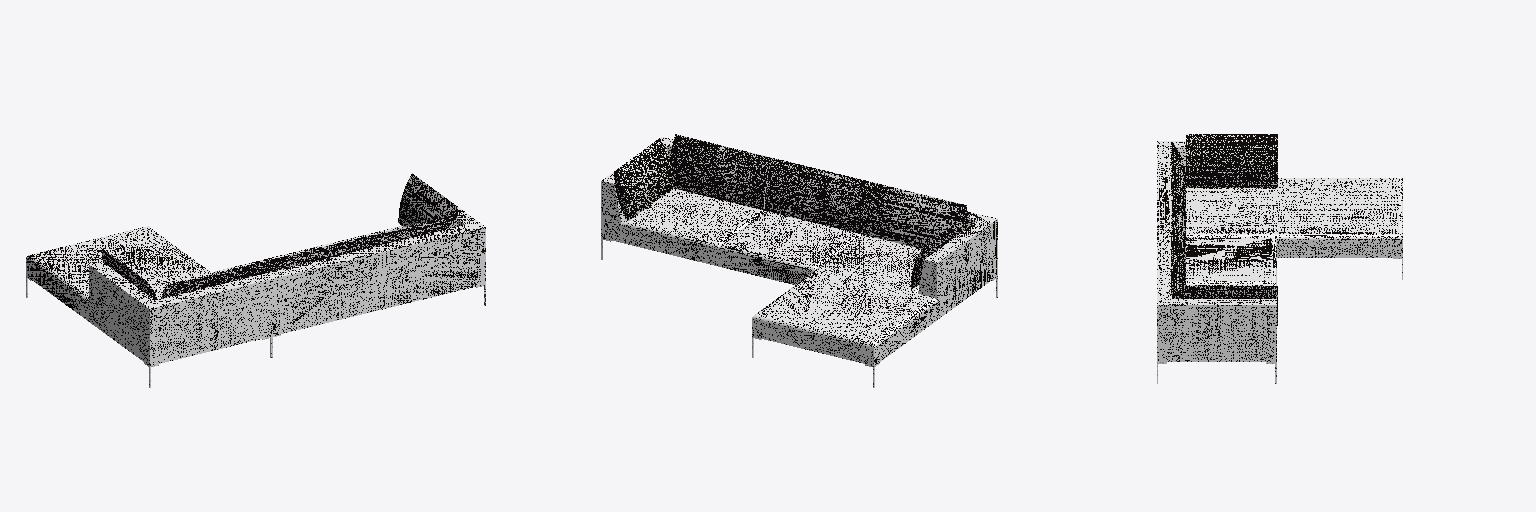
3 renders of one model, left to right at view 1: azimuth 30°, elevation 25°; view 2: azimuth 150°, elevation 25°; view 3: azimuth 270°, elevation 25°, orthographic.
Visible parts, largest first — view 1: mesh2_mesh2-geometry, mesh1_mesh1-geometry, mesh5_mesh5-geometry, mesh4_mesh4-geometry, mesh3_mesh3-geometry, mesh6_mesh6-geometry; view 2: mesh2_mesh2-geometry, mesh4_mesh4-geometry, mesh3_mesh3-geometry, mesh5_mesh5-geometry, mesh1_mesh1-geometry, mesh6_mesh6-geometry; view 3: mesh2_mesh2-geometry, mesh6_mesh6-geometry, mesh1_mesh1-geometry, mesh3_mesh3-geometry, mesh5_mesh5-geometry, mesh4_mesh4-geometry.
Part boxes in pixels (left/top/right/bottom): mesh2_mesh2-geometry: left=26, top=200, right=485, bottom=387; mesh1_mesh1-geometry: left=398, top=173, right=457, bottom=226; mesh5_mesh5-geometry: left=161, top=262, right=262, bottom=298; mesh4_mesh4-geometry: left=263, top=238, right=360, bottom=273; mesh3_mesh3-geometry: left=360, top=214, right=457, bottom=249; mesh6_mesh6-geometry: left=102, top=249, right=157, bottom=299; mesh2_mesh2-geometry: left=601, top=137, right=997, bottom=387; mesh4_mesh4-geometry: left=765, top=158, right=868, bottom=233; mesh3_mesh3-geometry: left=670, top=134, right=771, bottom=209; mesh5_mesh5-geometry: left=863, top=182, right=966, bottom=248; mesh1_mesh1-geometry: left=614, top=138, right=673, bottom=220; mesh6_mesh6-geometry: left=911, top=214, right=969, bottom=289; mesh2_mesh2-geometry: left=1157, top=141, right=1402, bottom=383; mesh6_mesh6-geometry: left=1186, top=134, right=1277, bottom=187; mesh1_mesh1-geometry: left=1186, top=286, right=1277, bottom=325; mesh3_mesh3-geometry: left=1171, top=236, right=1185, bottom=298; mesh5_mesh5-geometry: left=1171, top=141, right=1185, bottom=219; mesh4_mesh4-geometry: left=1171, top=188, right=1185, bottom=266.
Size of the model in its own units: 0.8241 by 0.2155 by 0.5239.
Materials: 4 (1 with a texture image).